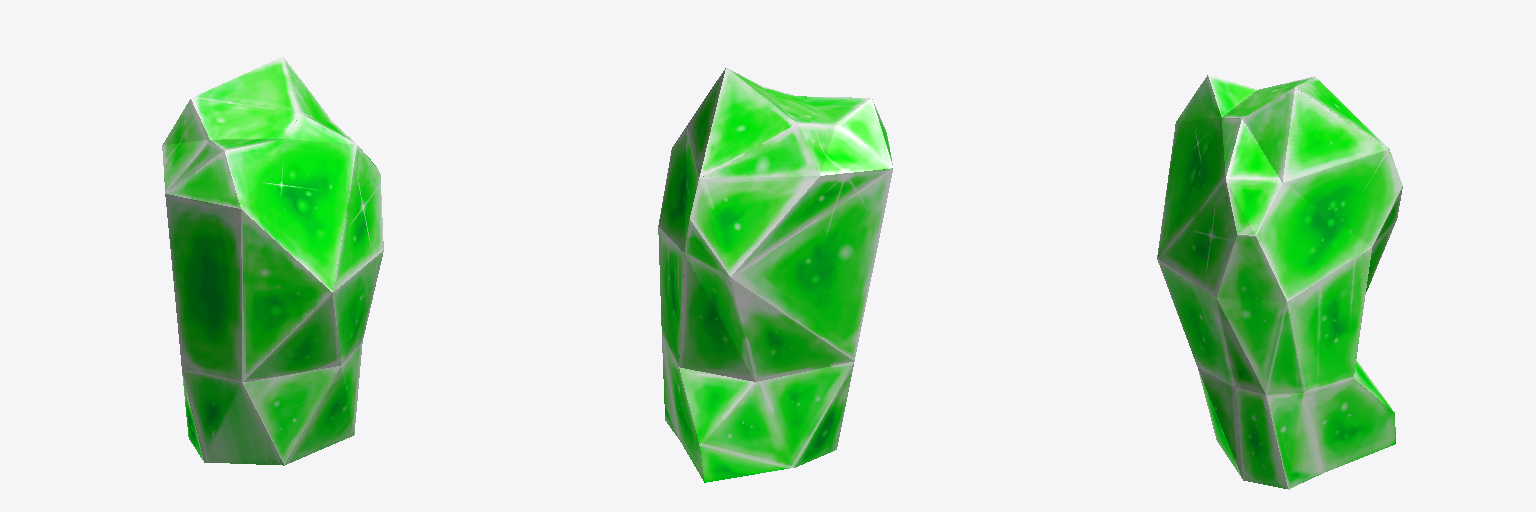
3 renders of one model, left to right at view 1: azimuth 30°, elevation 25°; view 2: azimuth 150°, elevation 25°; view 3: azimuth 270°, elevation 25°, orthographic.
Visible parts, largest first — view 1: Monolith_Crystal_Plane.001; view 2: Monolith_Crystal_Plane.001; view 3: Monolith_Crystal_Plane.001.
Boxes of the visible parts, x1=… form: Monolith_Crystal_Plane.001: x1=162, y1=57, x2=383, y2=465; Monolith_Crystal_Plane.001: x1=658, y1=68, x2=892, y2=482; Monolith_Crystal_Plane.001: x1=1157, y1=75, x2=1402, y2=489.
Size of the model in its own units: 1.85 by 3.04 by 1.83.
Materials: 1 (1 with a texture image).